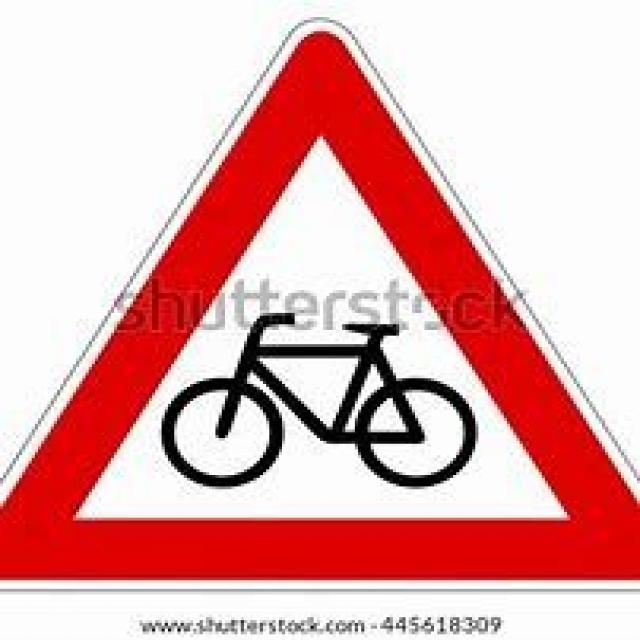CYCLE_CROSSING: (0, 14, 637, 586)
